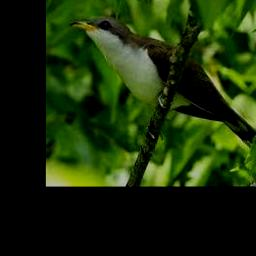Cuckoo: (69, 17, 256, 166)
